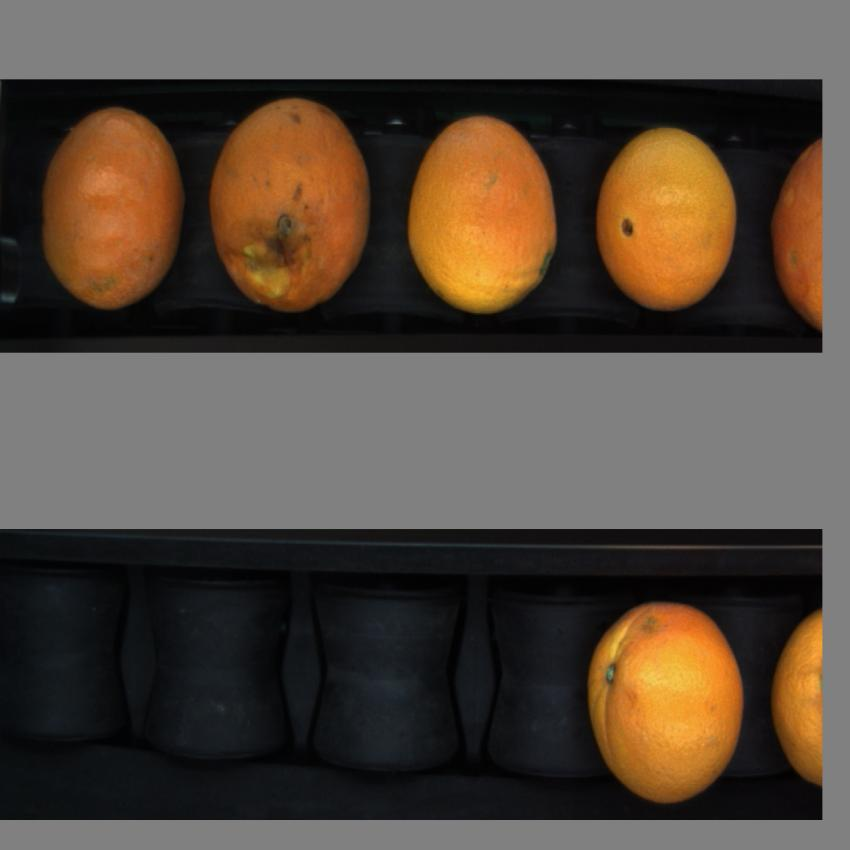Buen estado: (578, 585, 750, 808), (400, 101, 560, 324), (38, 101, 192, 326), (588, 113, 742, 322), (762, 125, 822, 325), (766, 592, 822, 802)
Mal estado: (205, 93, 379, 324)
